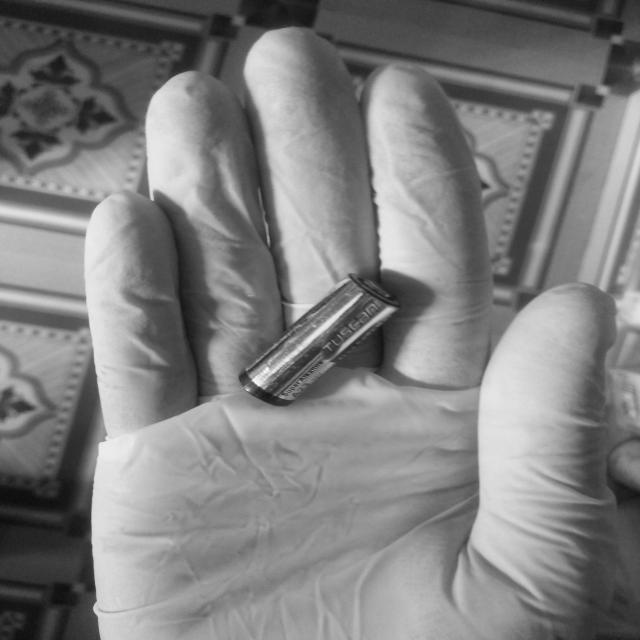Gloves: (76, 24, 610, 640)
